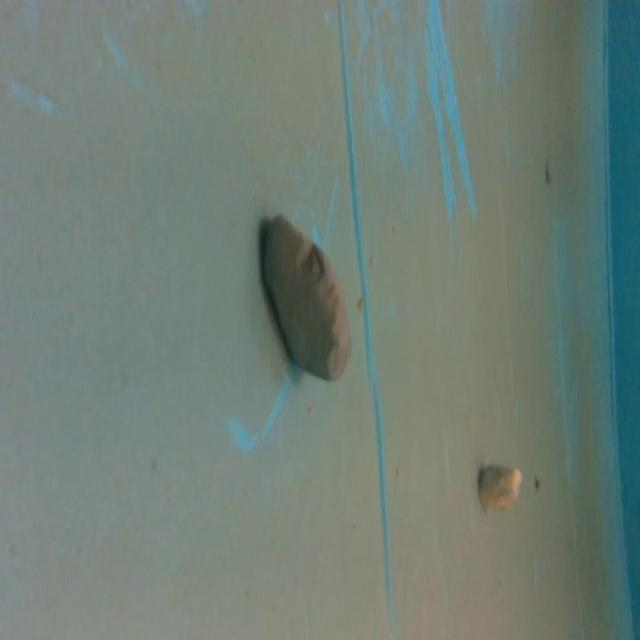rock: (255, 209, 358, 388), (472, 460, 526, 511)
